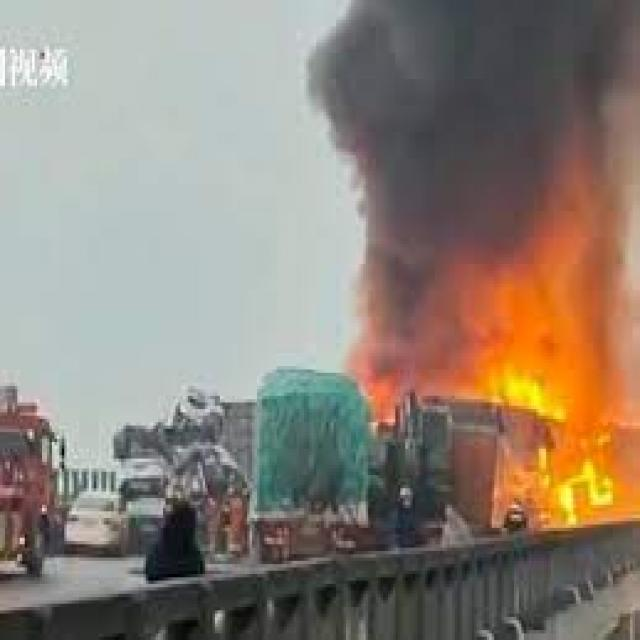fire: (492, 369, 620, 528)
smoke: (302, 3, 632, 380)
